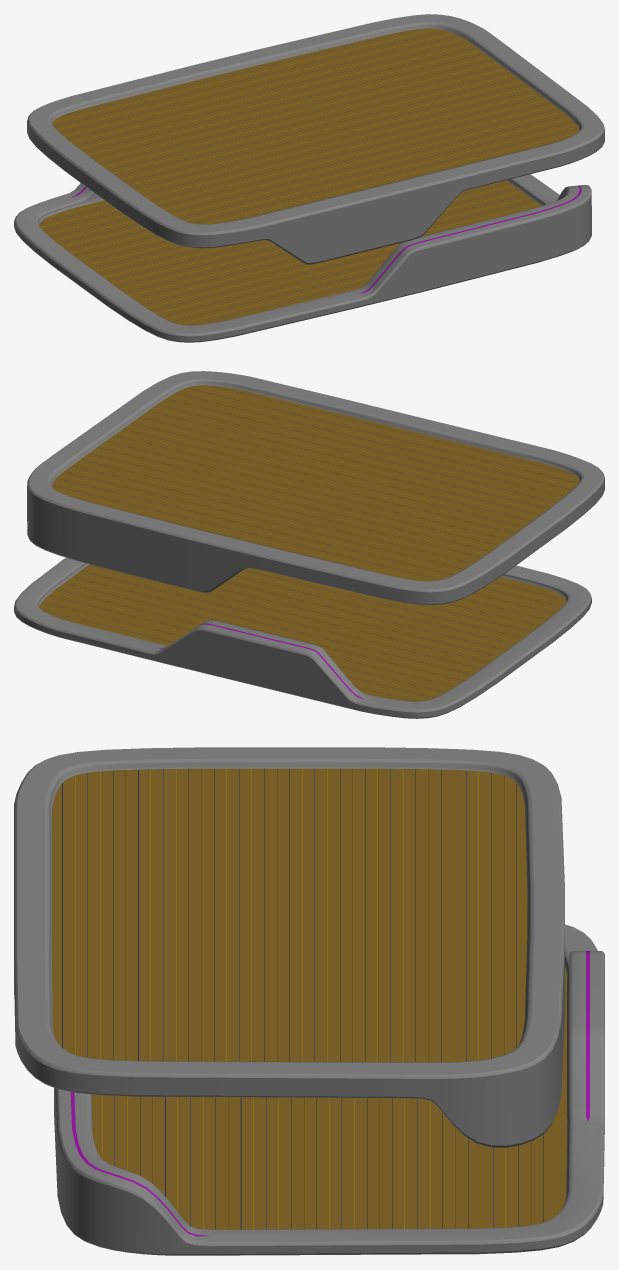
Rendered from SM_BuildingMK2_Base01.fbx.
3 views of the same model, one above another, from view 1: azimuth 30°, elevation 25°; view 2: azimuth 150°, elevation 25°; view 3: azimuth 270°, elevation 25° (orthographic). The views are drawn at different scales.
Visible parts, largest first — view 1: Base01; view 2: Base01; view 3: Base01.
Boxes of the visible parts, bbox=[...] form: Base01: bbox=[14, 14, 604, 342]; Base01: bbox=[14, 371, 604, 718]; Base01: bbox=[14, 747, 604, 1255].
Size of the model in its own units: 2092 by 535 by 1584.
